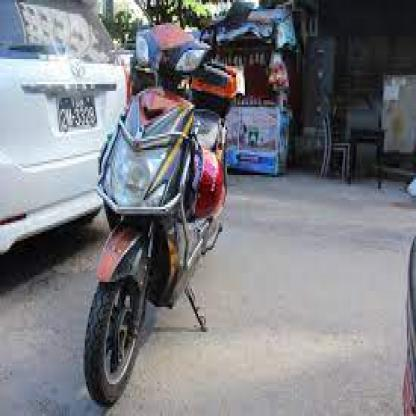bike: (85, 16, 230, 414)
